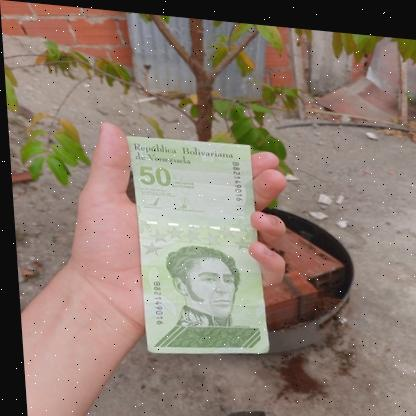fifty-front-vef: (124, 130, 265, 360)
